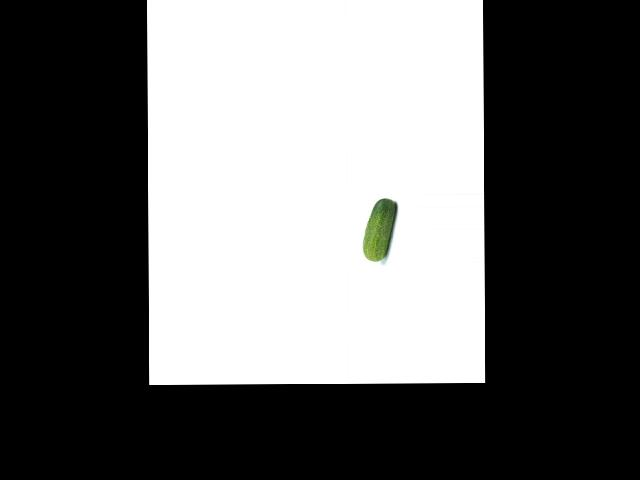cucumber: (363, 198, 396, 261)
